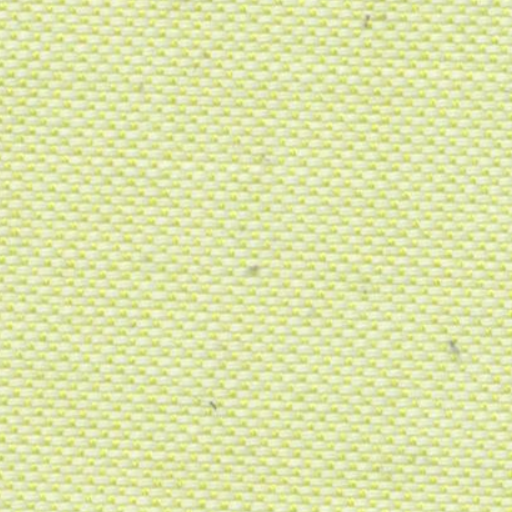WuZi: (438, 322, 472, 370), (349, 10, 398, 42), (192, 391, 234, 426), (232, 251, 265, 291)
